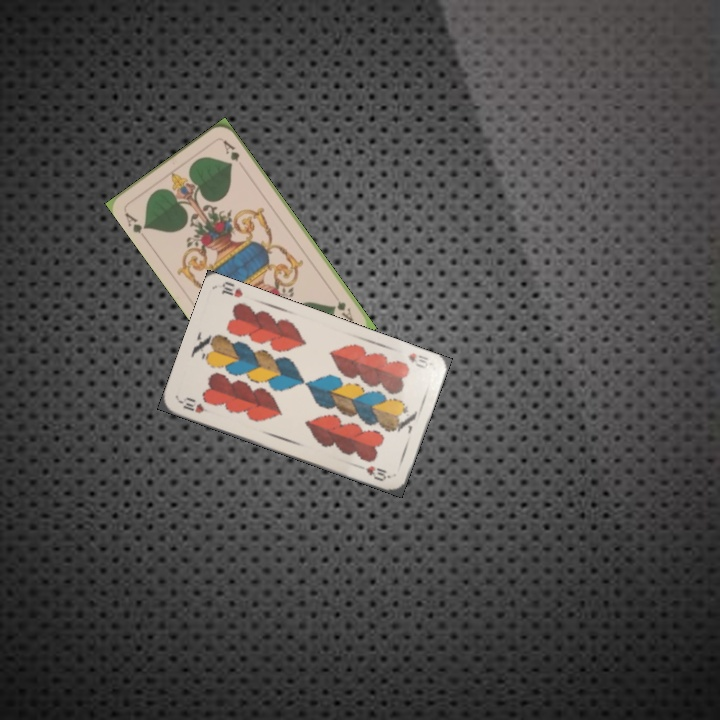GA: (121, 208, 150, 236), (333, 297, 356, 325)
H10: (175, 394, 214, 416), (403, 349, 431, 371)
